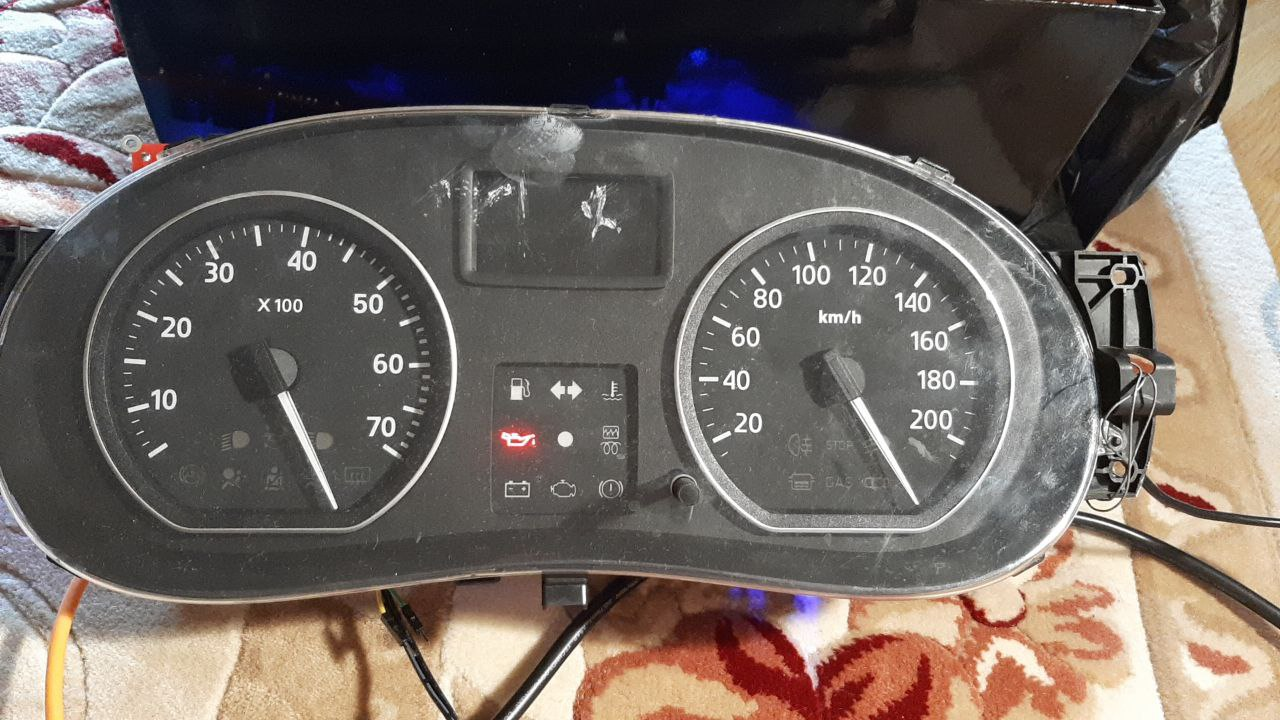oil: (493, 426, 539, 453)
